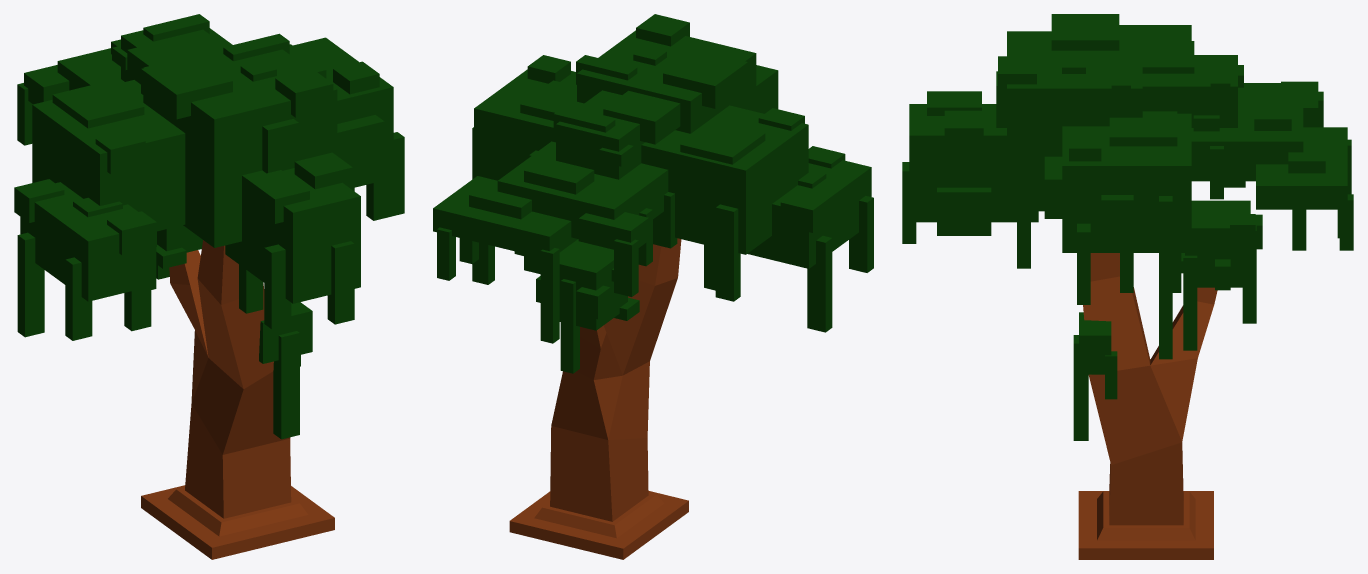
Rendered from tree_01.fbx.
3 views of the same model, side by side, from view 1: azimuth 30°, elevation 25°; view 2: azimuth 150°, elevation 25°; view 3: azimuth 270°, elevation 25° (orthographic). The views are drawn at different scales.
Parts seen in each view (by area): view 1: Trunk, Leaves, Leaves.005, Leaves.002, Leaves.006, Leaves.004, Leaves.037, Leaves.041, Leaves.052, Leaves.007, Leaves.036, Leaves.046 (+25 smaller); view 2: Trunk, Leaves.005, Leaves, Leaves.054, Leaves.006, Leaves.004, Leaves.055, Leaves.003, Leaves.037, Leaves.001, Leaves.047, Leaves.041 (+23 smaller); view 3: Trunk, Leaves, Leaves.004, Leaves.002, Leaves.054, Leaves.055, Leaves.003, Leaves.001, Leaves.040, Leaves.037, Leaves.014, Leaves.033 (+26 smaller).
Boxes of the visible parts, x1,y1,x2,y2 form: Trunk: (141, 240, 334, 559); Leaves: (143, 48, 337, 247); Leaves.005: (32, 80, 185, 231); Leaves.002: (225, 168, 360, 303); Leaves.006: (20, 182, 155, 301); Leaves.004: (293, 37, 393, 187); Leaves.037: (141, 55, 232, 119); Leaves.041: (52, 81, 144, 128); Leaves.052: (273, 331, 299, 439); Leaves.007: (17, 232, 44, 337); Leaves.036: (337, 115, 384, 169); Leaves.046: (246, 170, 309, 223); Trunk: (509, 238, 688, 559); Leaves.005: (641, 105, 808, 254); Leaves: (577, 30, 756, 133); Leaves.054: (497, 141, 668, 238); Leaves.006: (747, 160, 871, 268); Leaves.004: (474, 69, 576, 180); Leaves.055: (433, 176, 577, 257); Leaves.003: (556, 90, 644, 179); Leaves.037: (663, 49, 747, 108); Leaves.001: (559, 239, 627, 330); Leaves.047: (603, 90, 680, 144); Leaves.041: (680, 120, 765, 164); Trunk: (1078, 253, 1217, 559); Leaves: (1007, 31, 1142, 211); Leaves.004: (1062, 113, 1191, 252); Leaves.002: (909, 104, 1038, 222); Leaves.054: (1191, 83, 1303, 181); Leaves.055: (1256, 127, 1347, 209); Leaves.003: (1142, 55, 1237, 127); Leaves.001: (1185, 200, 1250, 287); Leaves.040: (937, 187, 991, 235); Leaves.037: (1051, 14, 1119, 50); Leaves.014: (1159, 196, 1172, 359); Leaves.033: (1109, 111, 1177, 146).
Size of the model in its own units: 590 by 758 by 666.
